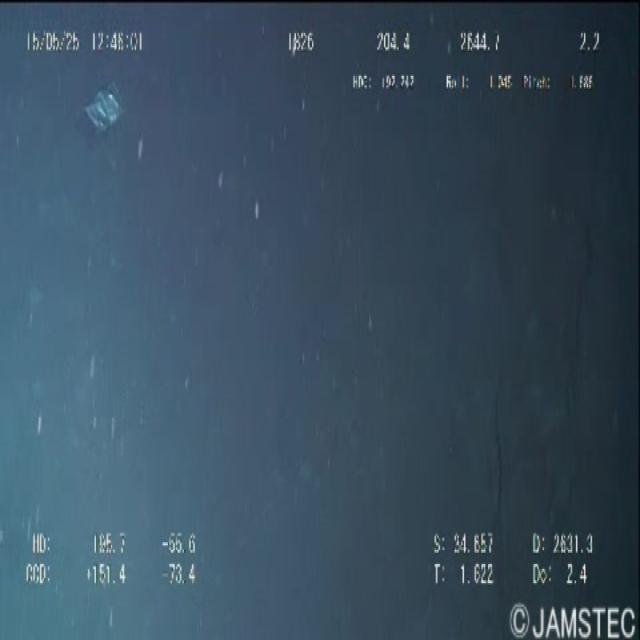Litter: (75, 91, 133, 153)
